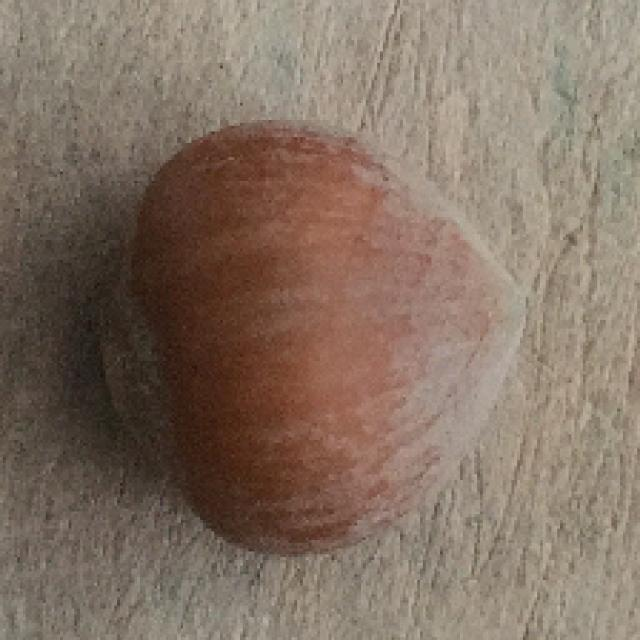QualityHazelnut: (102, 118, 532, 562)
